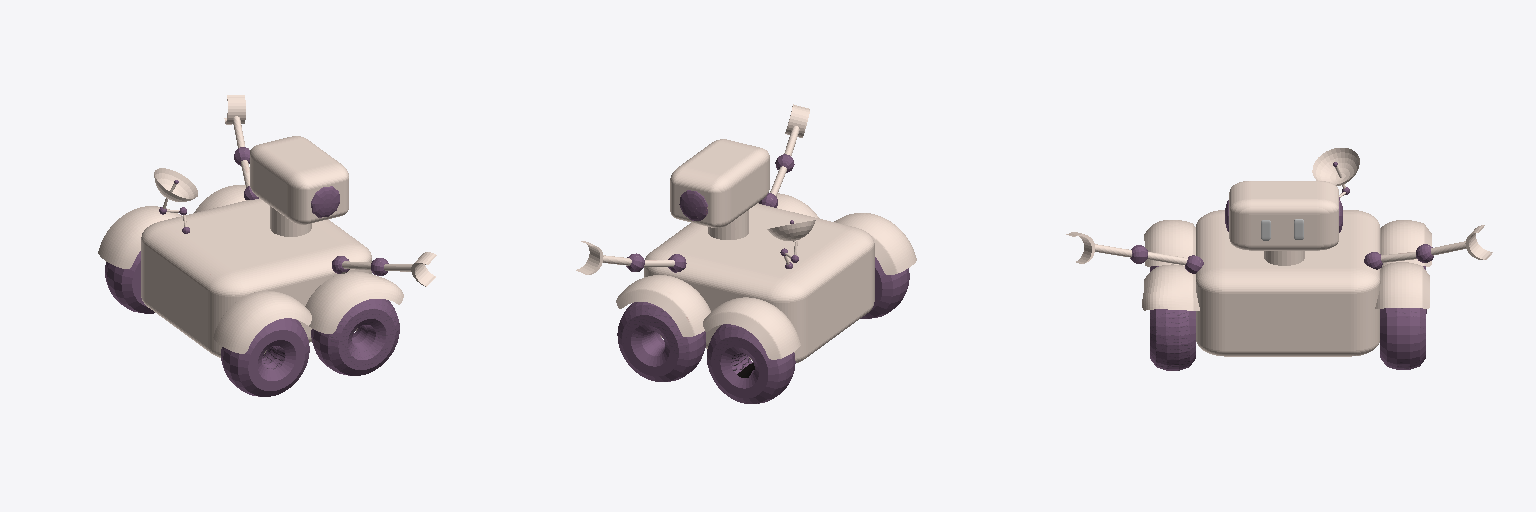
The picture shows the model from 3 angles: view 1: azimuth 30°, elevation 25°; view 2: azimuth 150°, elevation 25°; view 3: azimuth 270°, elevation 25°; orthographic projection.
Visible parts, largest first — view 1: Body; view 2: Body; view 3: Body.
Part boxes in pixels (bbox=[...]): Body: bbox=[98, 95, 436, 396]; Body: bbox=[576, 104, 916, 403]; Body: bbox=[1066, 148, 1492, 370].
Bounding box in the file's own units: 2.14 × 2.01 × 4.43.
2 materials, 1 textured.